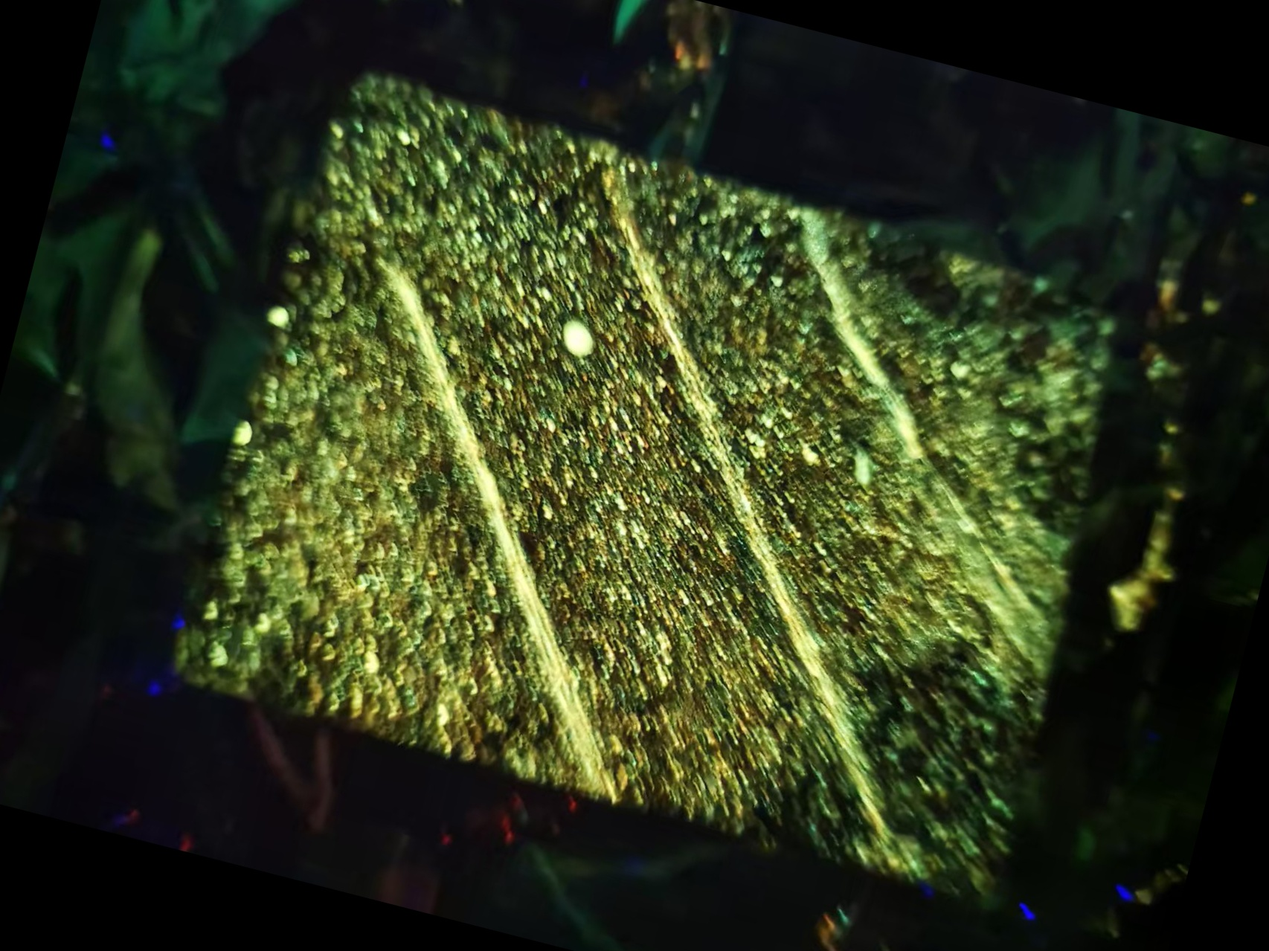Fissure: (442, 150, 1052, 862), (268, 258, 737, 801), (705, 200, 1156, 679)
